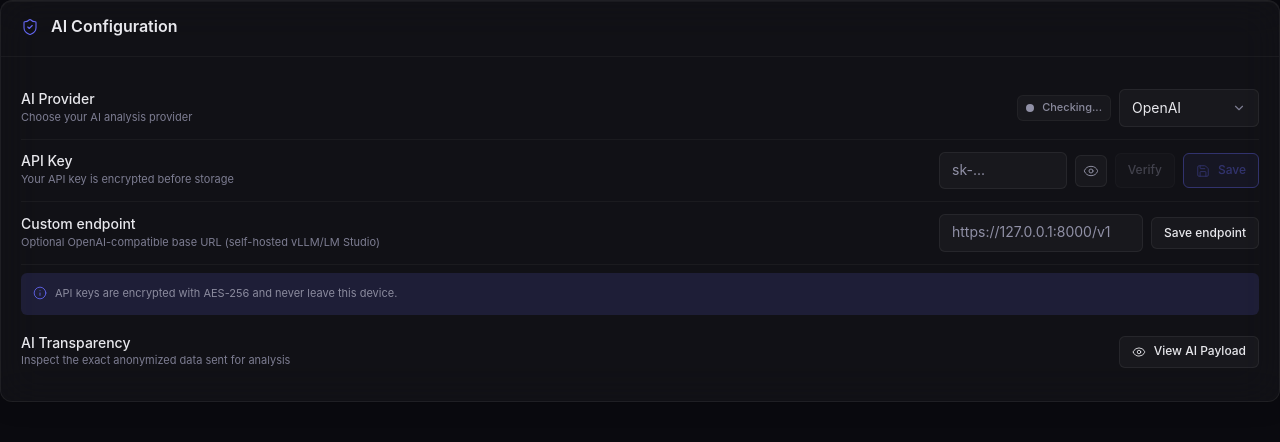
Scenario: FE-07b AIConfigSection surfaces IPC rejections › leaves the Testing state and shows an error when validateApiKey rejects
Type "sk-test" into the password field labelled "API Key" at (1003, 171), box [939,152,1067,189]
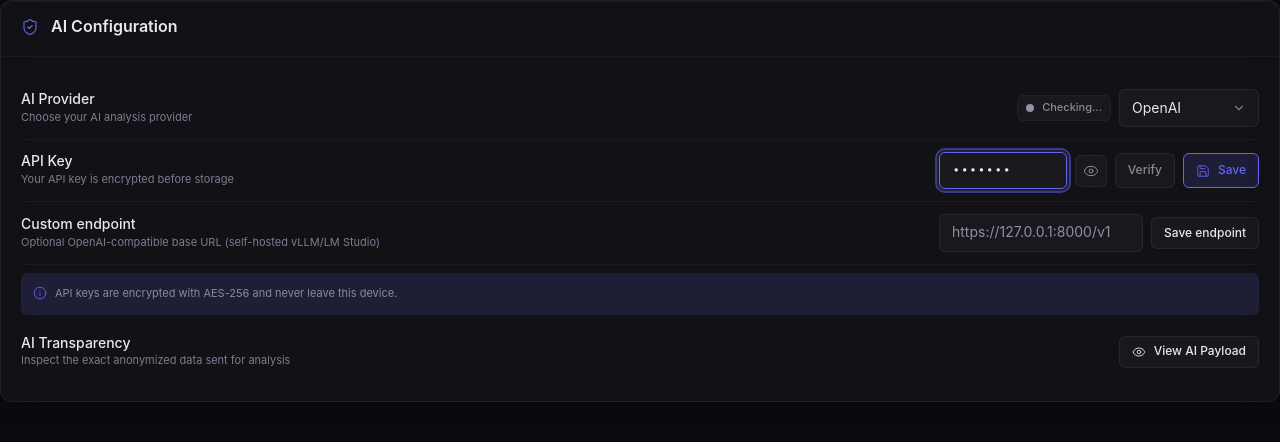
Click the button "Verify" at (1145, 171), box [1115,153,1175,188]
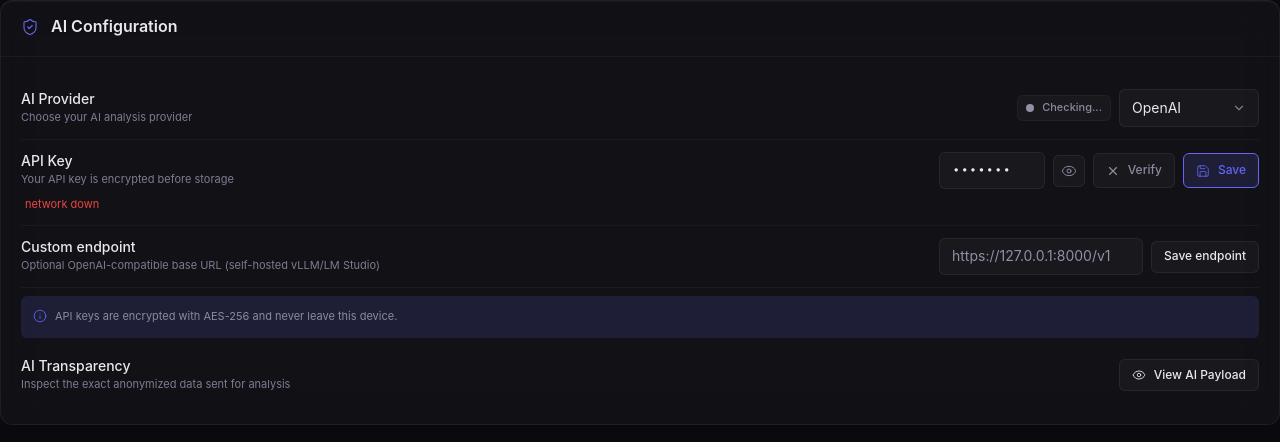
Expected: the text "network down" is shown, [25,197,99,211]
